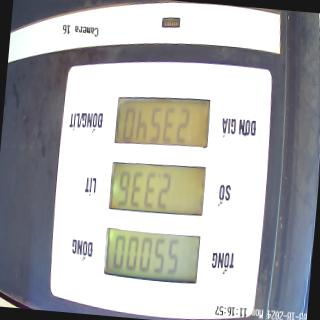screen: (100, 86, 216, 290)
